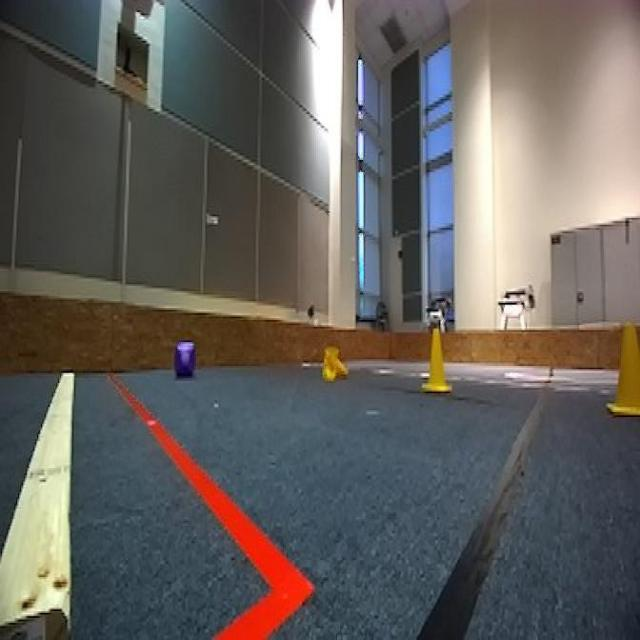frc_cone: (608, 325, 640, 418), (420, 320, 454, 397), (319, 344, 351, 379)
frc_cube: (172, 339, 197, 378)
